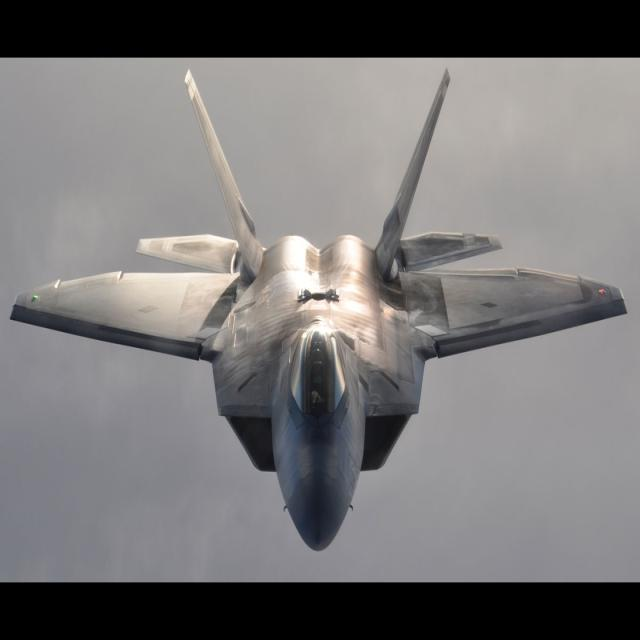F22: (0, 52, 640, 602)
